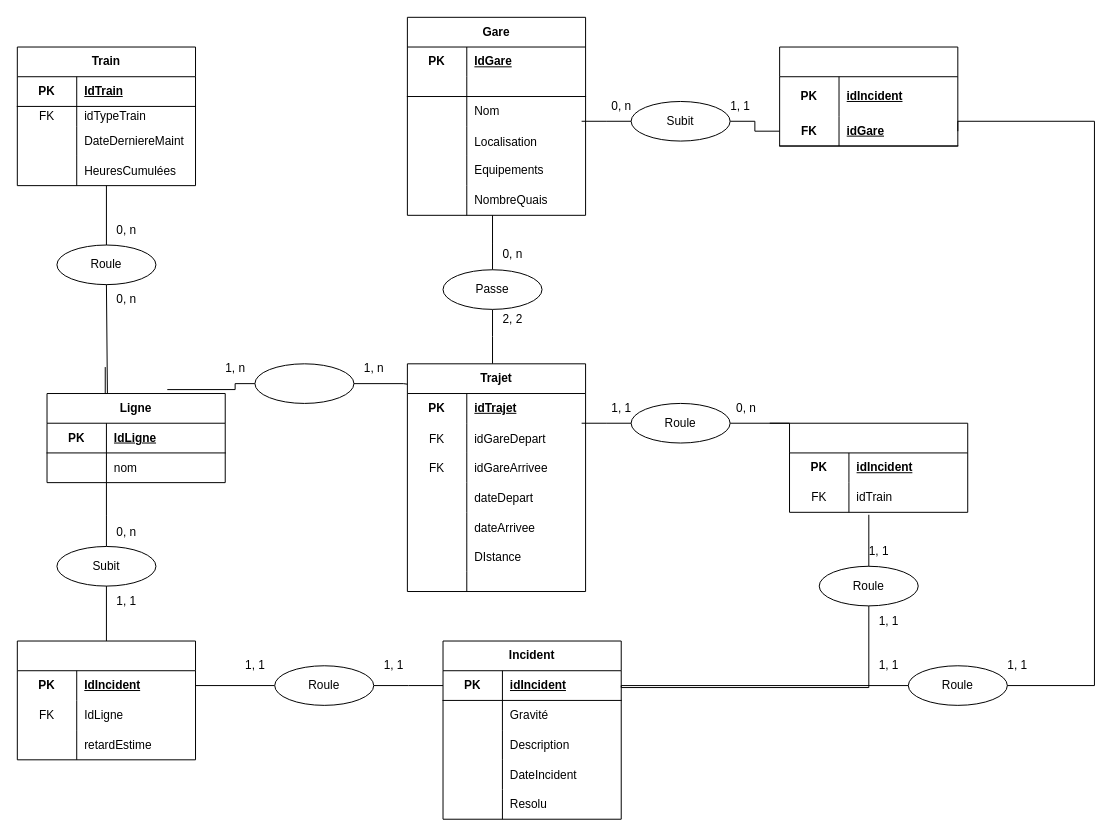
Some shapes in this 1113 by 837 pixel diagram are drawn without their labels. Here are the shapes that lost their labels. From the top down, the box of each, then its label:
(779, 46, 958, 146): IncidentGare
(254, 363, 354, 403): Contient
(789, 422, 968, 512): IncidentTrain
(16, 640, 196, 760): IncidentLigne
